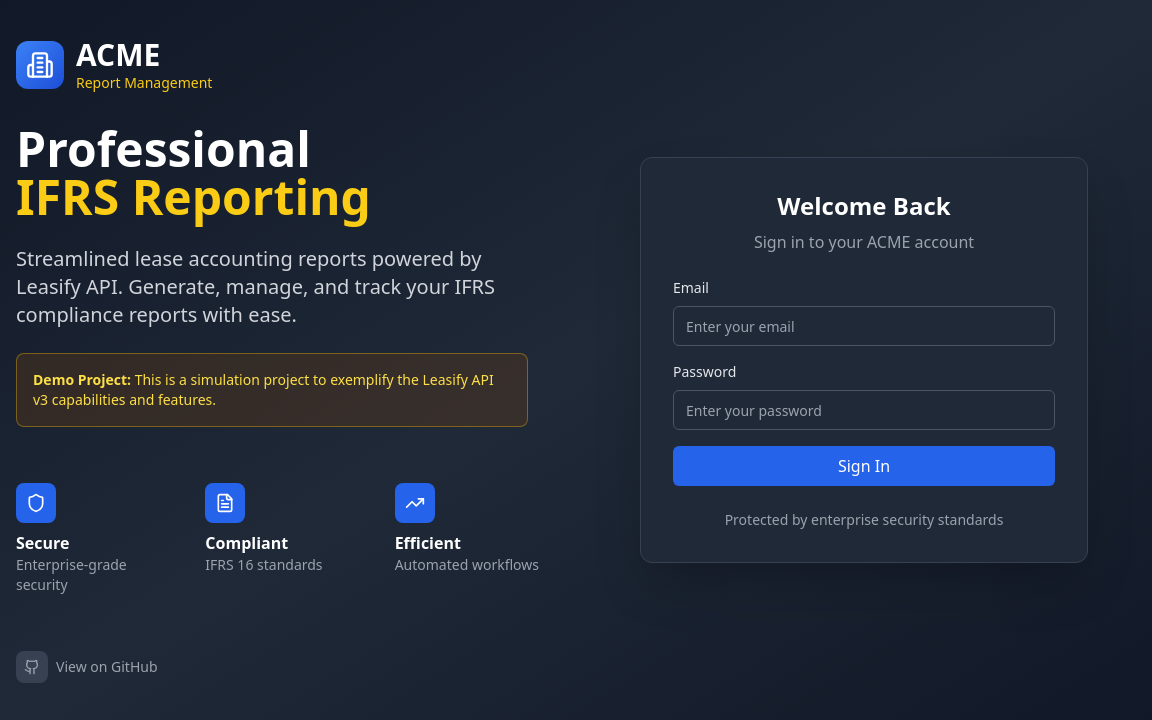
Test: LoginPage › disables submit button during login
This screenshot has width=1152, height=720.
Type "test@example.com" into the field labelled "Email" at (864, 326), box [673, 306, 1055, 346]
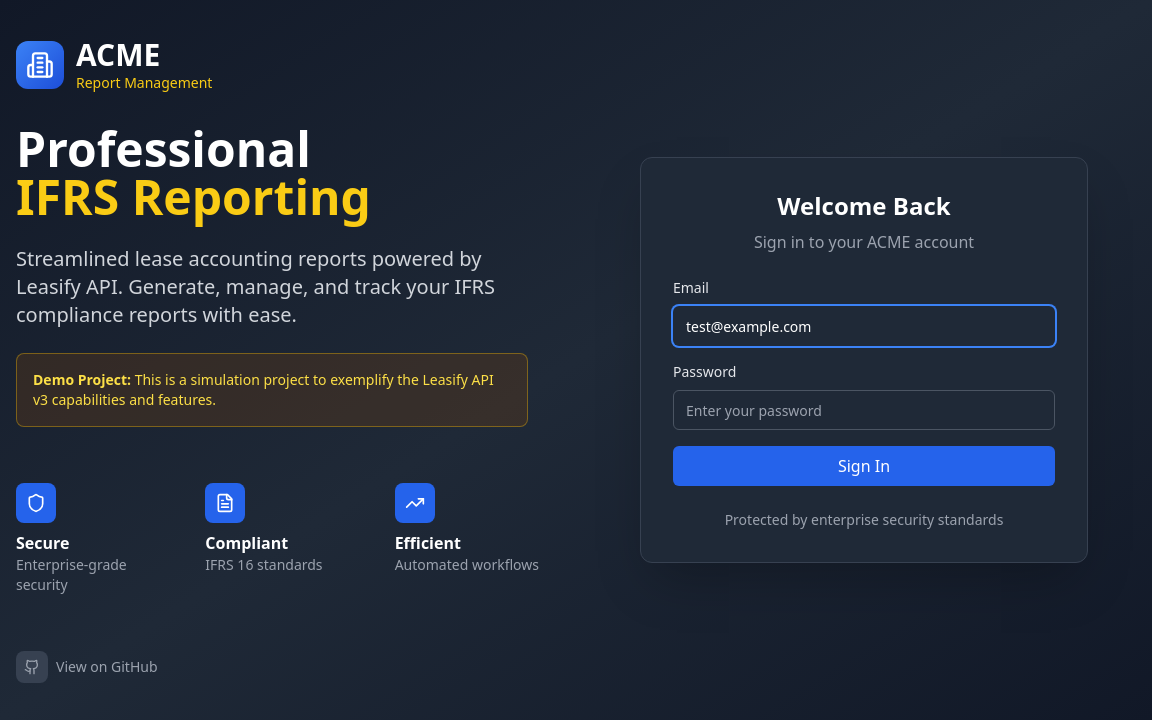
Type "password" into the password field labelled "Password" at (864, 410), box [673, 390, 1055, 430]
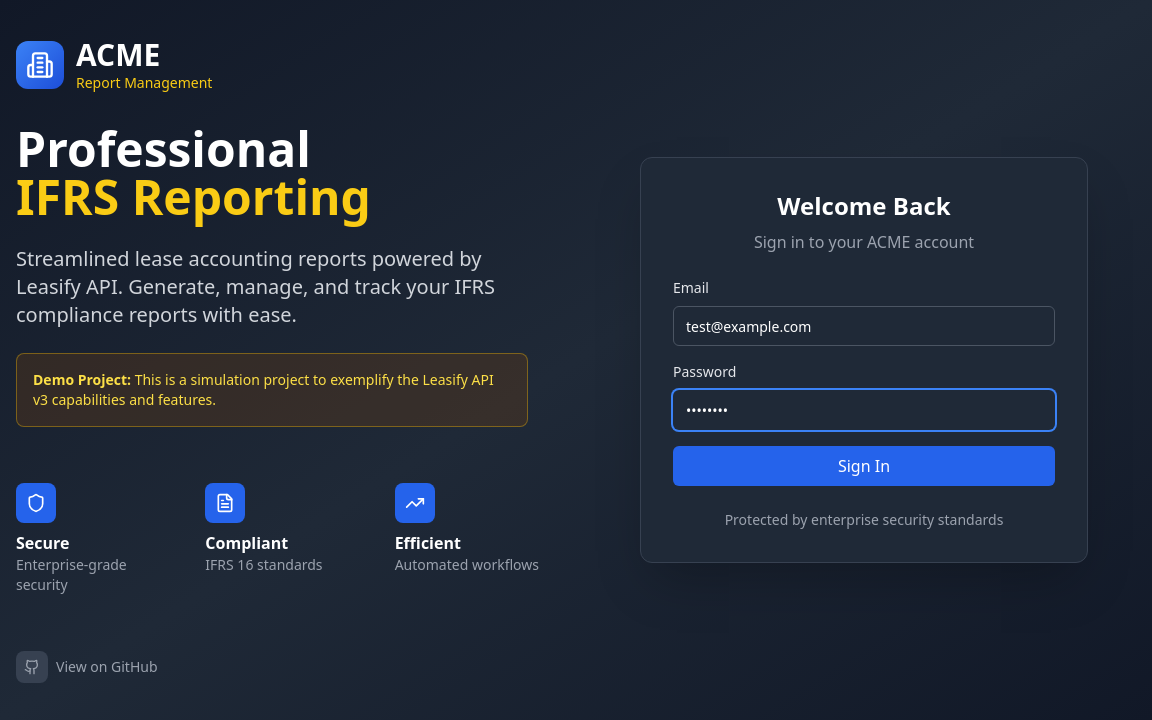
Click the button "Sign In" at (864, 466), box [673, 446, 1055, 486]
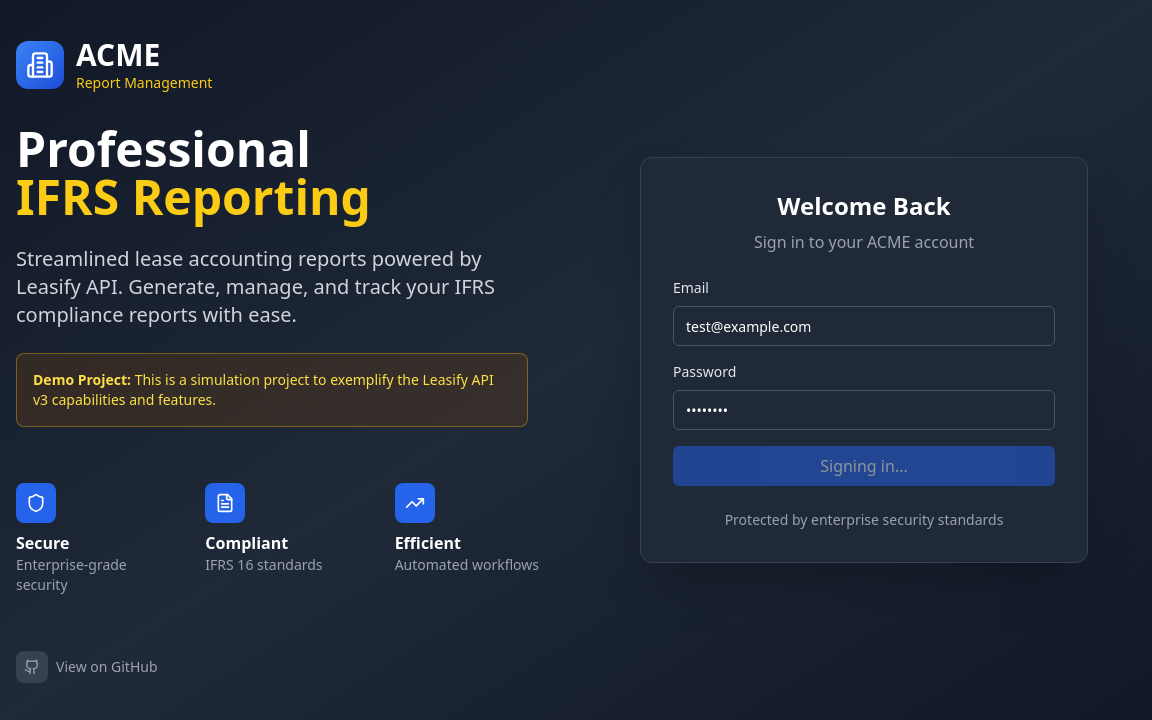
Expected: the button "Signing in..." is disabled, [673, 446, 1055, 486]
